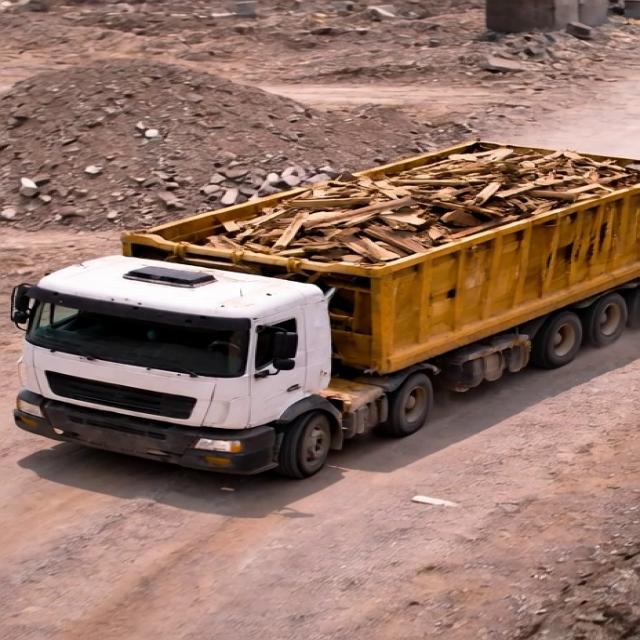Box: (117, 137, 640, 276)
Truck: (17, 126, 640, 485)
